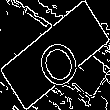O_NW: (26, 21, 84, 89)
